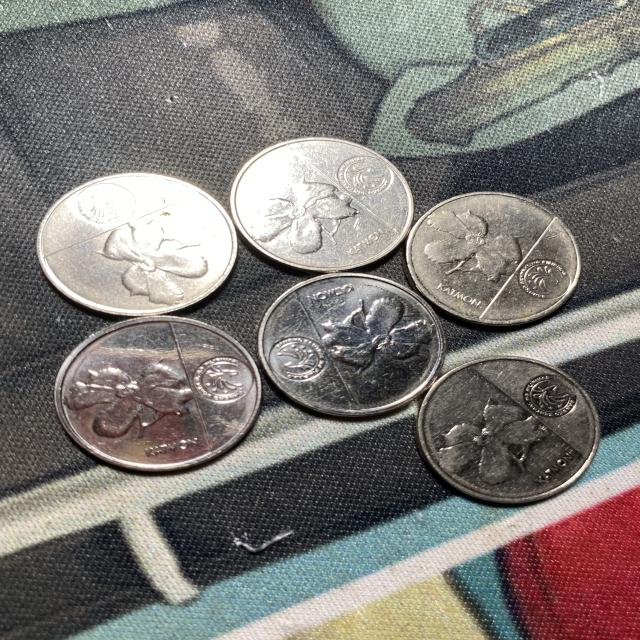25Cent_New_Back: (58, 349, 201, 443), (315, 287, 454, 381), (435, 399, 562, 488), (233, 178, 358, 268), (426, 210, 530, 290)
